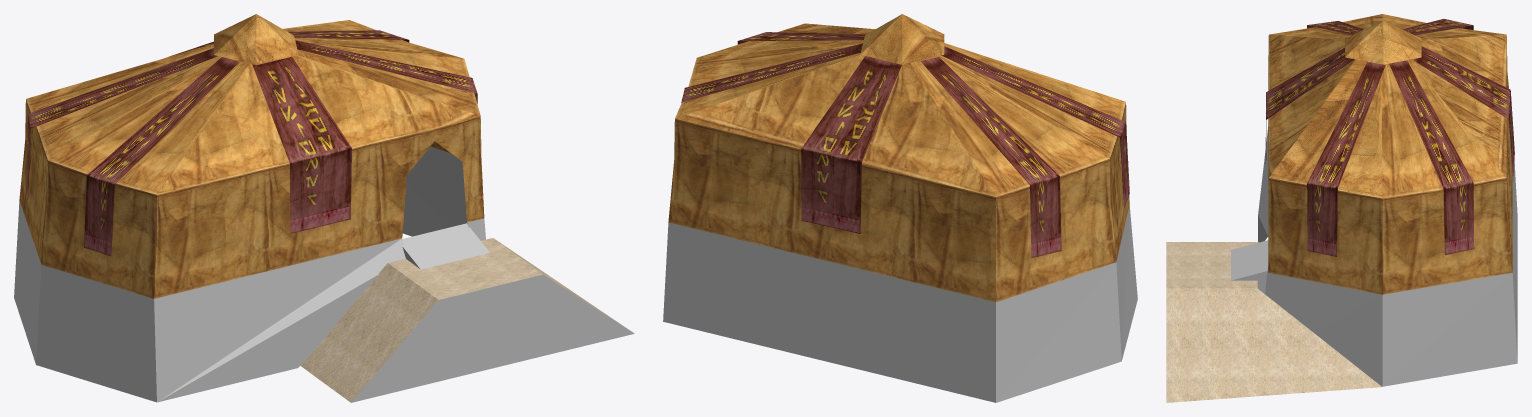
Rendered from ply_tato_idesigner_tent_s01_r0_mesh_l2.fbx.
3 renders of one model, left to right at view 1: azimuth 30°, elevation 25°; view 2: azimuth 150°, elevation 25°; view 3: azimuth 270°, elevation 25°, orthographic. The views are drawn at different scales.
Visible parts, largest first — view 1: mesh_node; view 2: mesh_node; view 3: mesh_node.
Part boxes in pixels (x1=…): mesh_node: x1=14, y1=14, x2=634, y2=402; mesh_node: x1=663, y1=14, x2=1137, y2=402; mesh_node: x1=1166, y1=14, x2=1517, y2=402.
Bounding box in the file's own units: 17.22 × 10.19 × 12.03.
